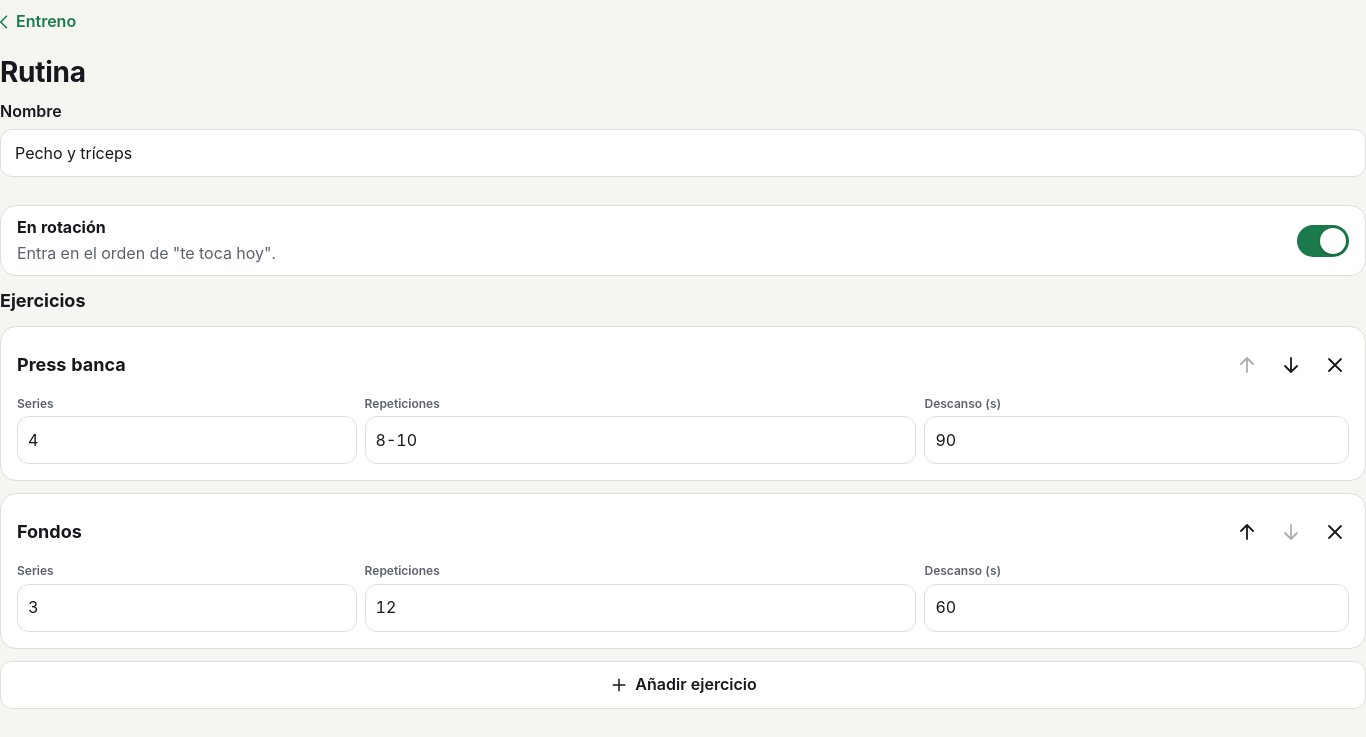
Test: Editor de rutina: guardar › quitar un ejercicio deja las position seguidas desde 0
This screenshot has width=1366, height=737.
Expected: the field labelled "Nombre" is shown, [0, 129, 1365, 177]
Click the button named "Quitar Press banca".
click(1335, 365)  # box [1313, 343, 1357, 387]
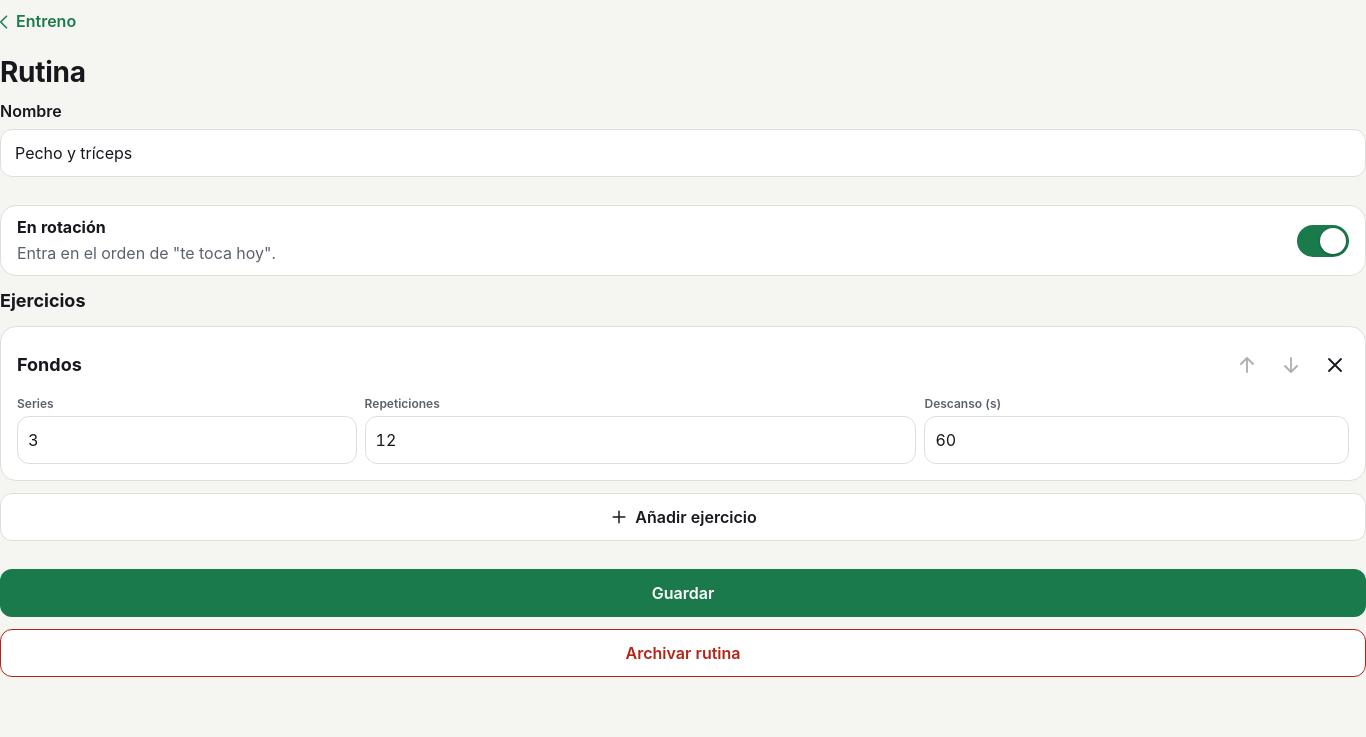
Click the button "Guardar".
click(683, 593)  # box [0, 569, 1365, 617]
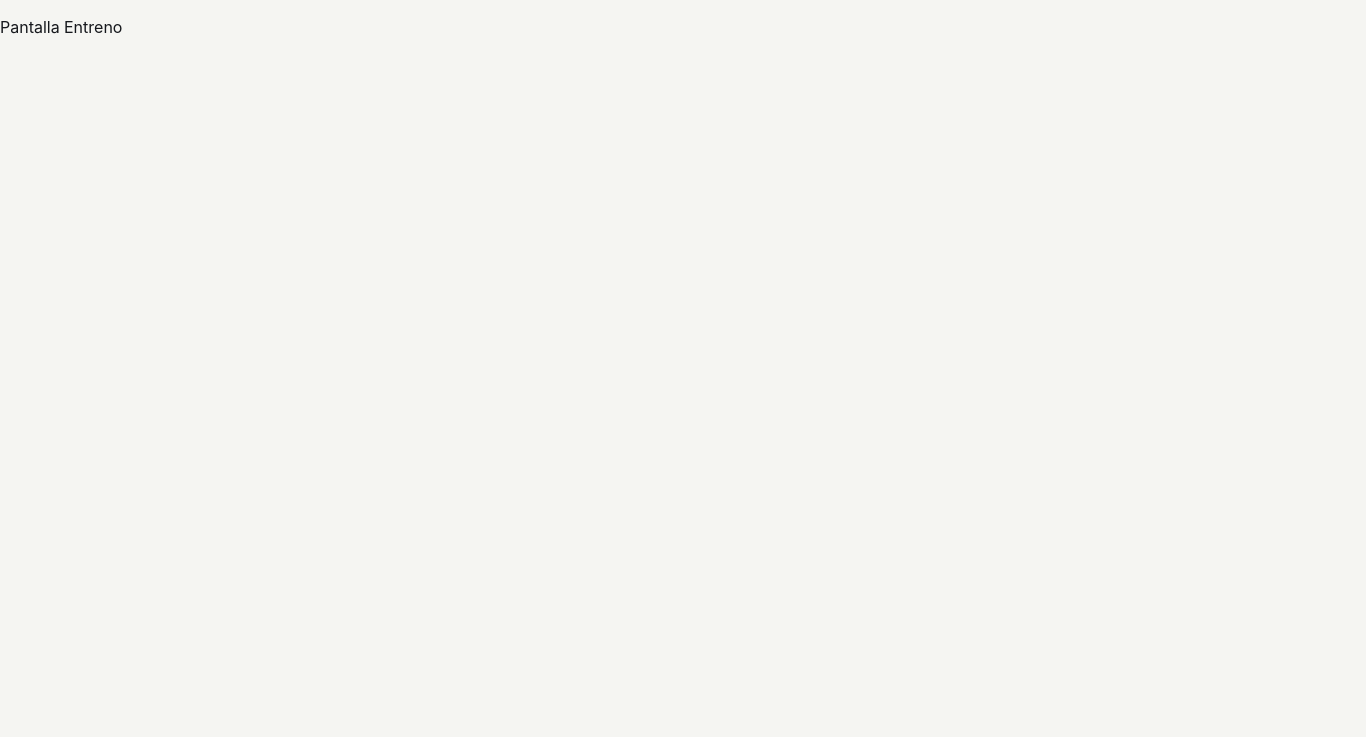
Expected: the text "Pantalla Entreno" is shown, [0, 17, 122, 37]
